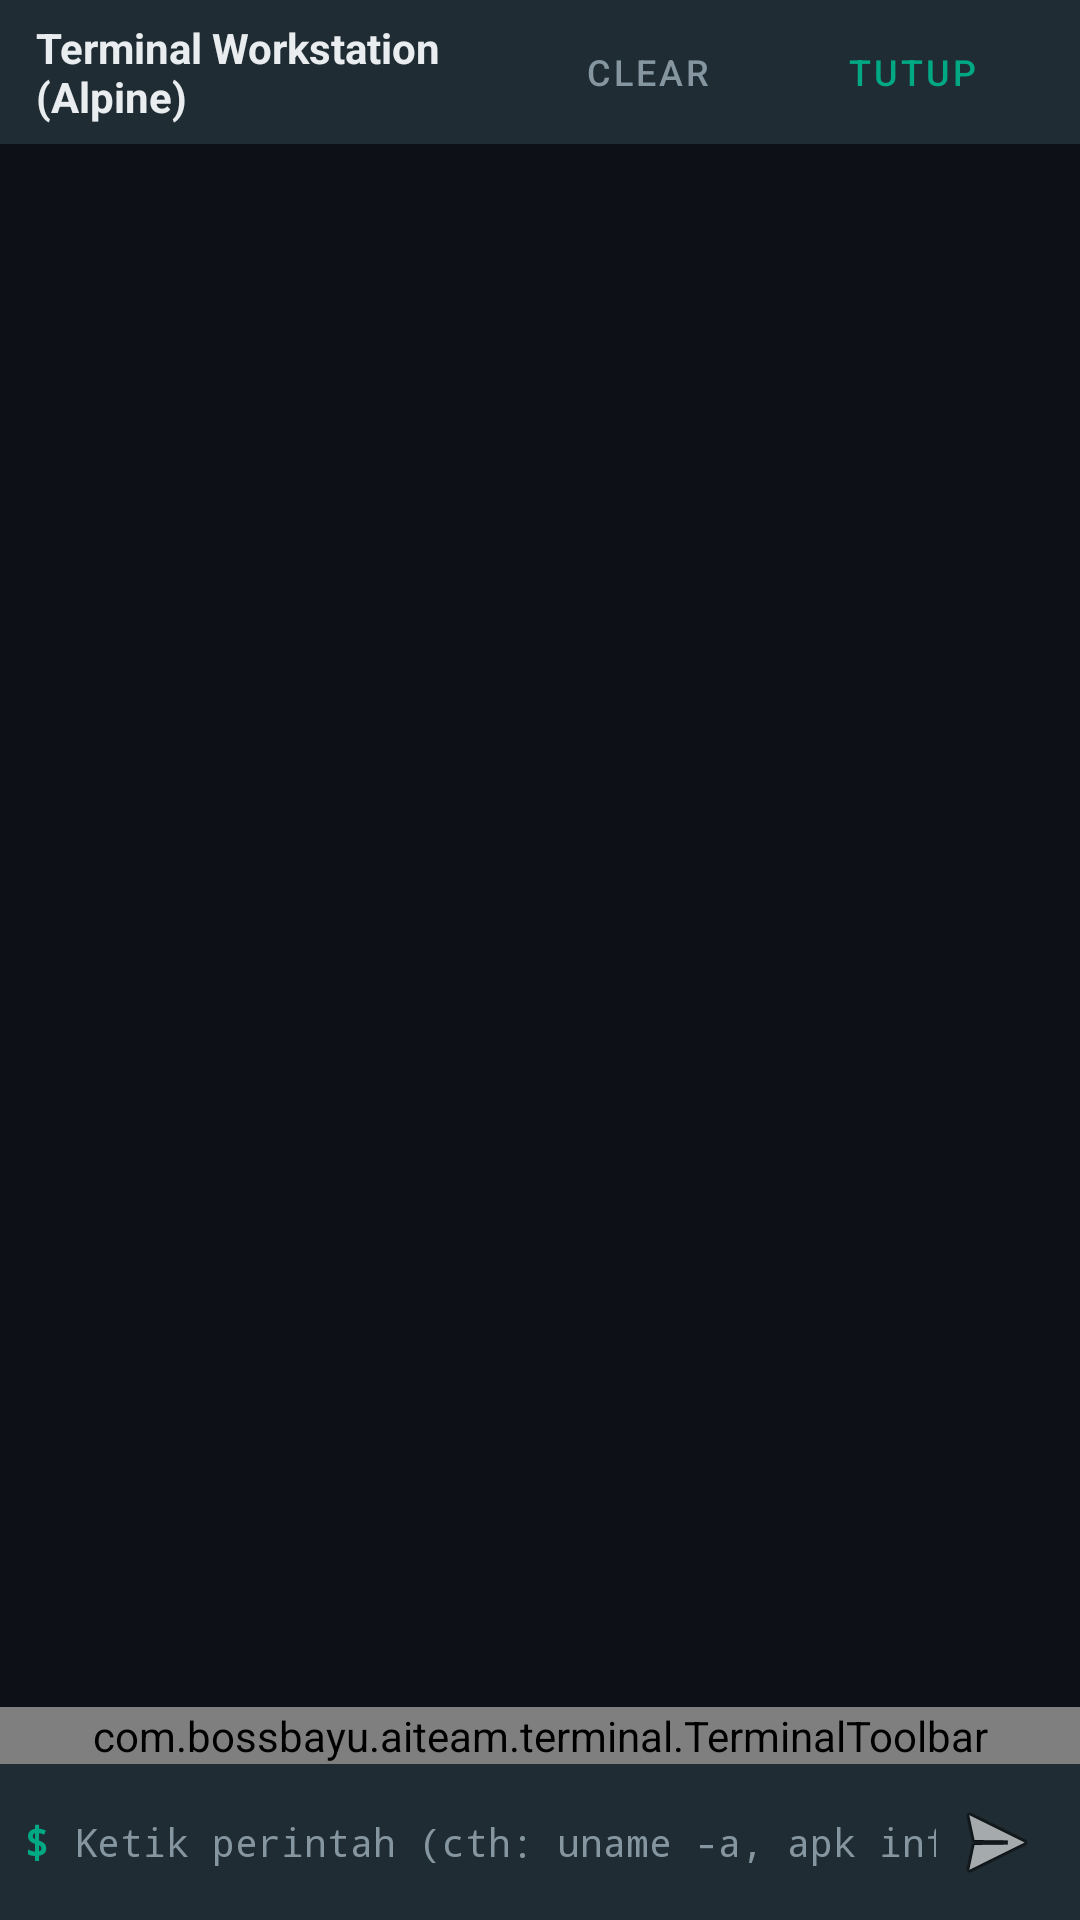

Named icons in this screenshot (1080px×1920px) and their bounding boxes, (x1, y1, x2, y2):
Jalankan Perintah: (968, 1814, 1025, 1871)
